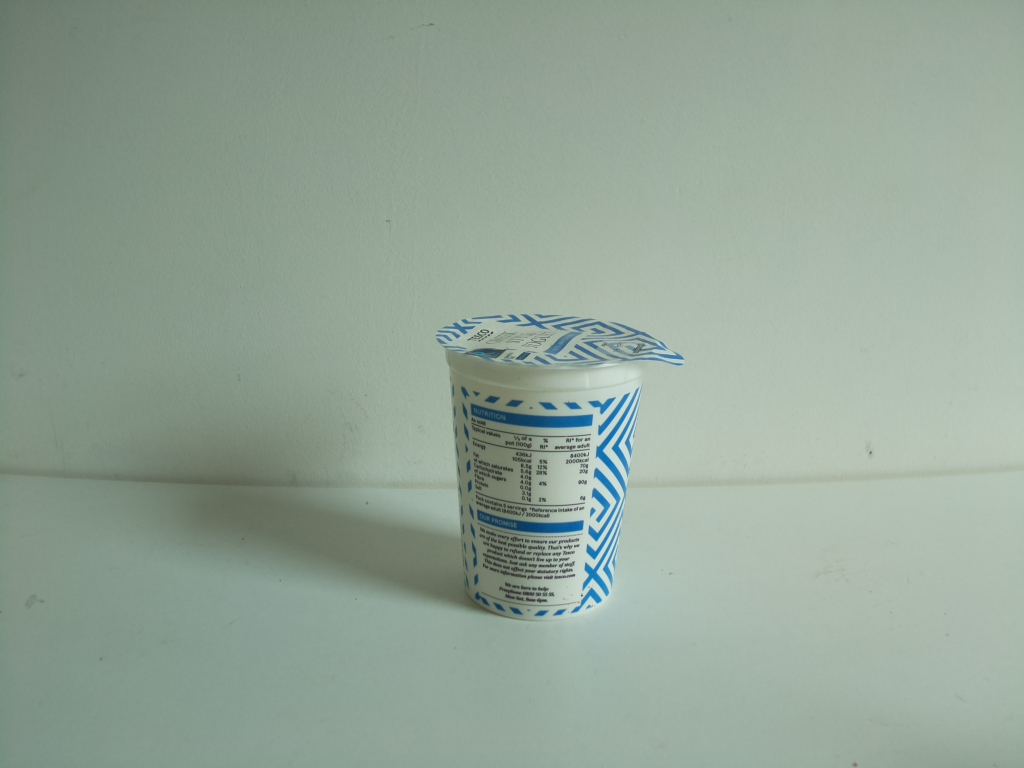yogurt: (429, 310, 689, 624)
